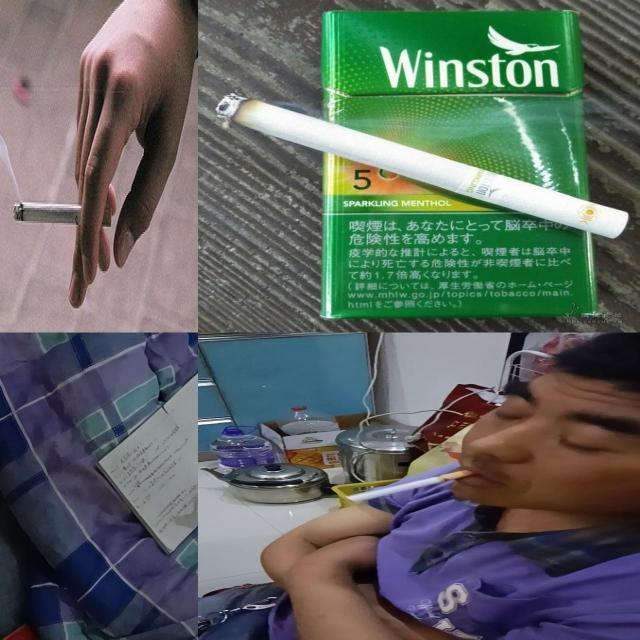cigarette: (214, 93, 631, 239), (347, 470, 477, 502), (12, 201, 112, 227)
